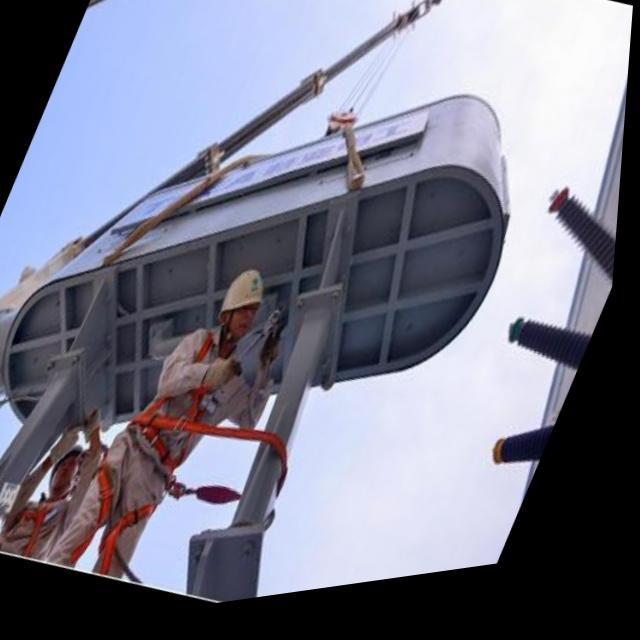belt: (54, 377, 236, 606)
